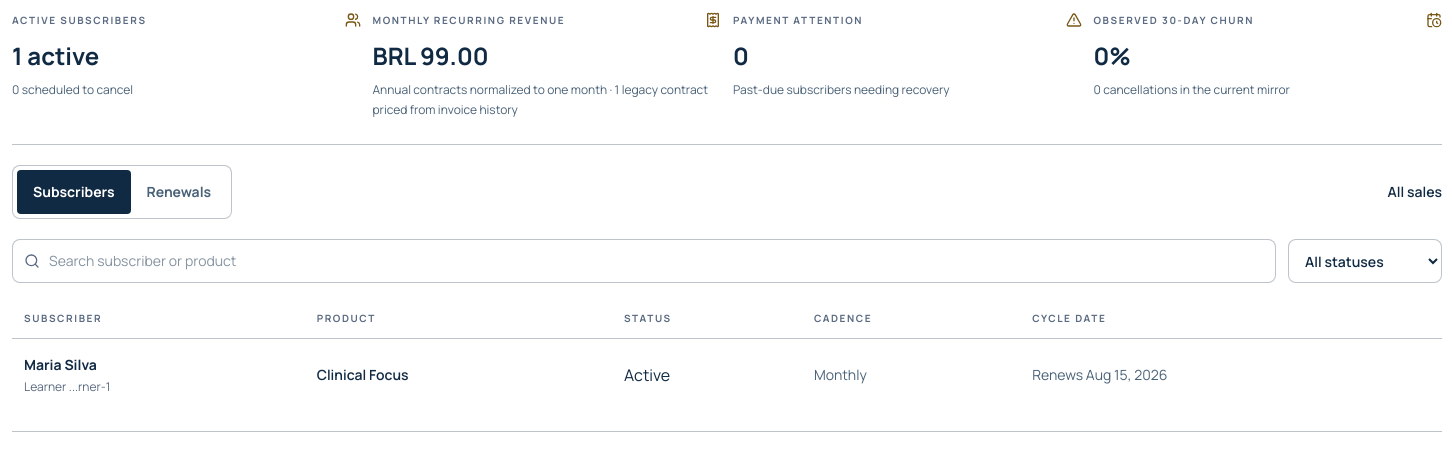
Test: CreatorSubscriptionCenterView › shows operational metrics and filters subscribers by name
Expected: the text "1 active" is shown, [12,39,99,72]
Expected: the text "BRL 99.00" is shown, [372,39,488,72]
Type "does-not-match" into the field named "Search subscribers".
click(644, 261); type("does-not-match")  # box [12,239,1276,283]
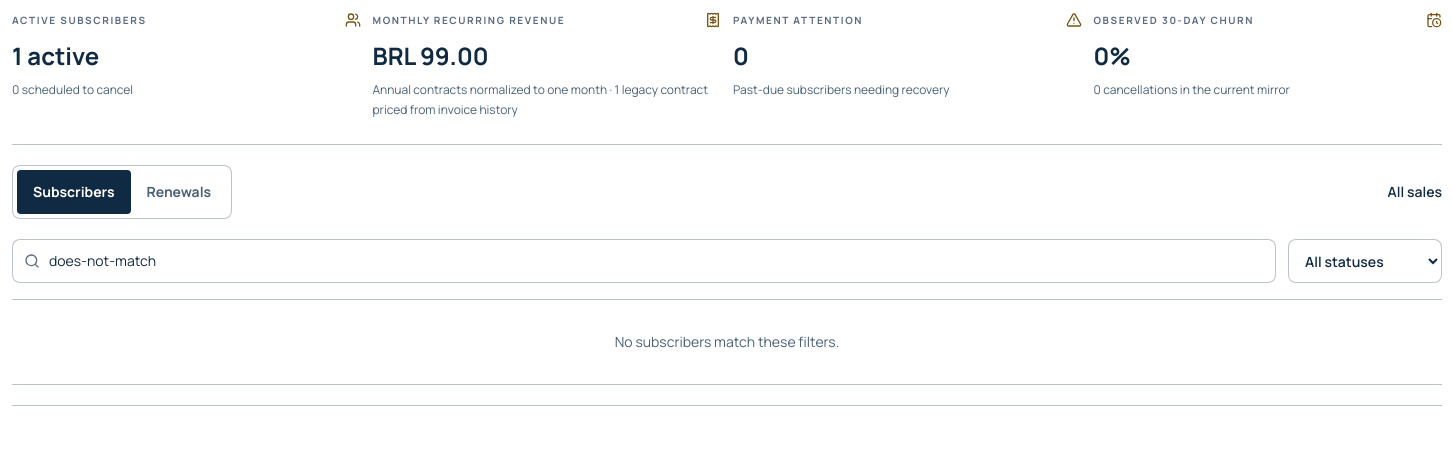
Expected: the text "Maria Silva" is gone
Expected: the text "No subscribers match these filters." is shown, [12,299,1442,385]
